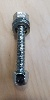FinishedAssembly: (9, 10, 36, 88)
